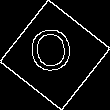O_S: (31, 27, 79, 83)
